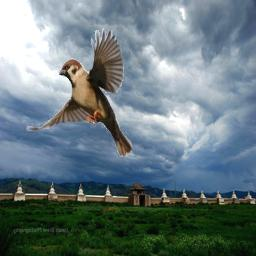Sparrow: (26, 27, 132, 157)
